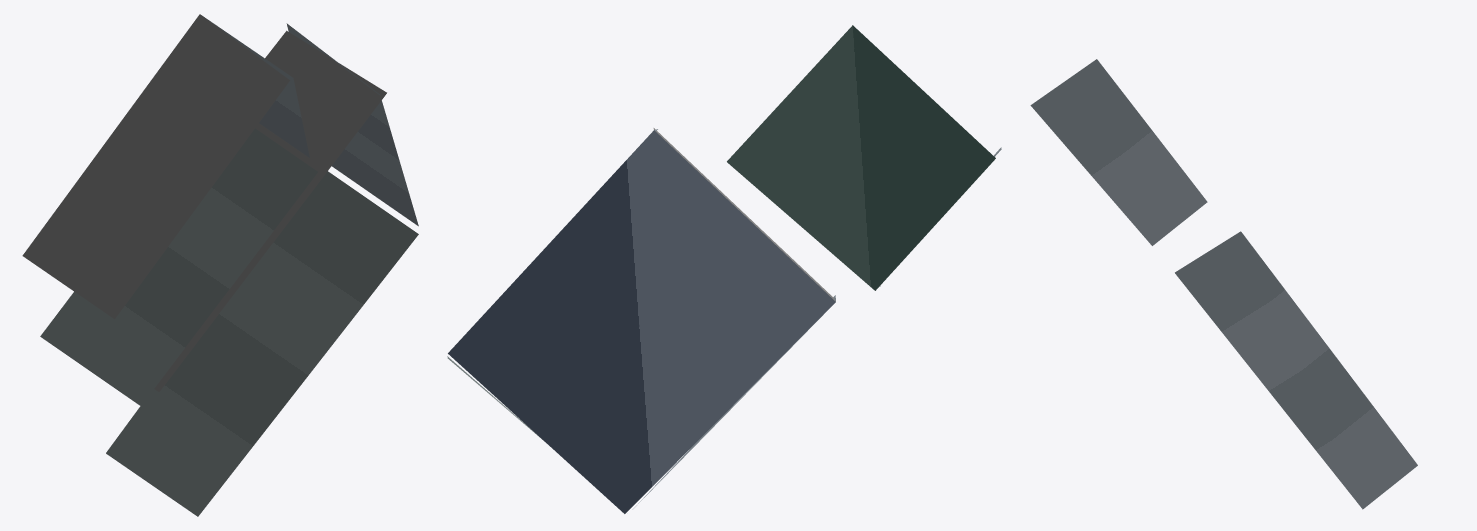
Rendered from tile_LOD3_r7_c6.glb.
The picture shows the model from 3 angles, left to right: view 1: azimuth 30°, elevation 25°; view 2: azimuth 150°, elevation 25°; view 3: azimuth 270°, elevation 25°; orthographic projection. The views are drawn at different scales.
Size of the model in its own units: 21.5 by 22.25 by 19.5.
5 materials, 5 textured.
